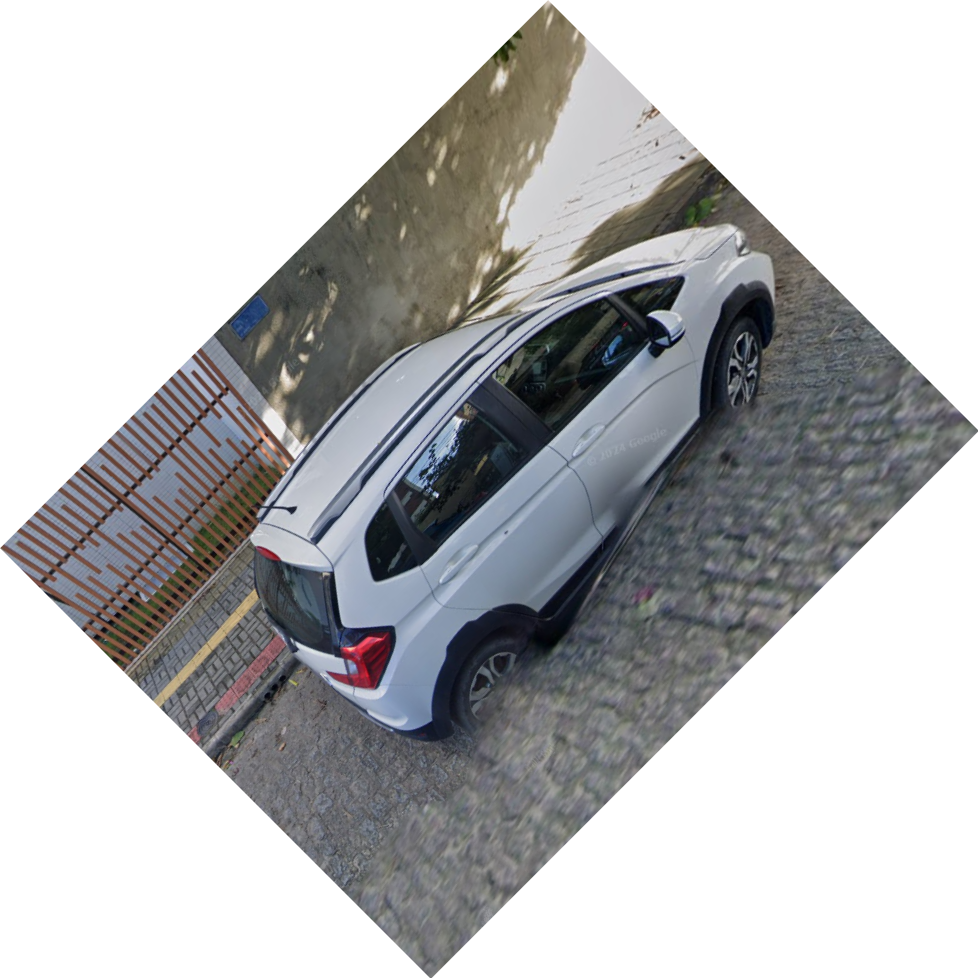car: (241, 220, 791, 753)
